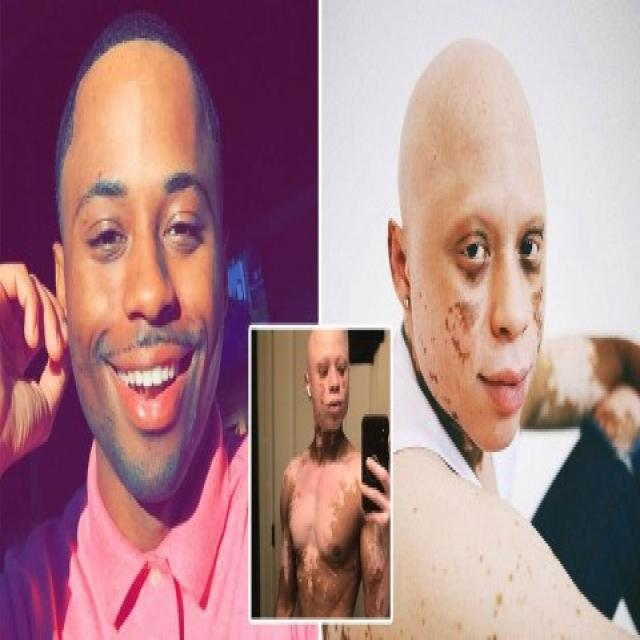vitiligo: (420, 207, 540, 393), (280, 467, 360, 618), (548, 346, 632, 432)
